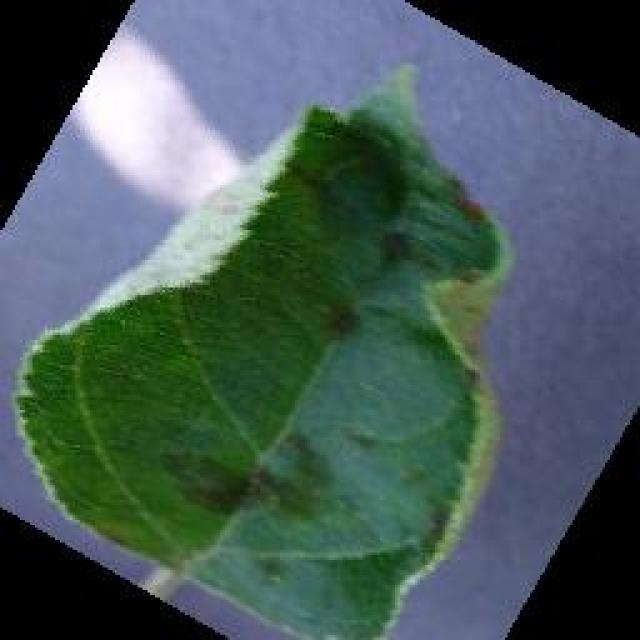apple scab disease: (10, 60, 515, 638)
